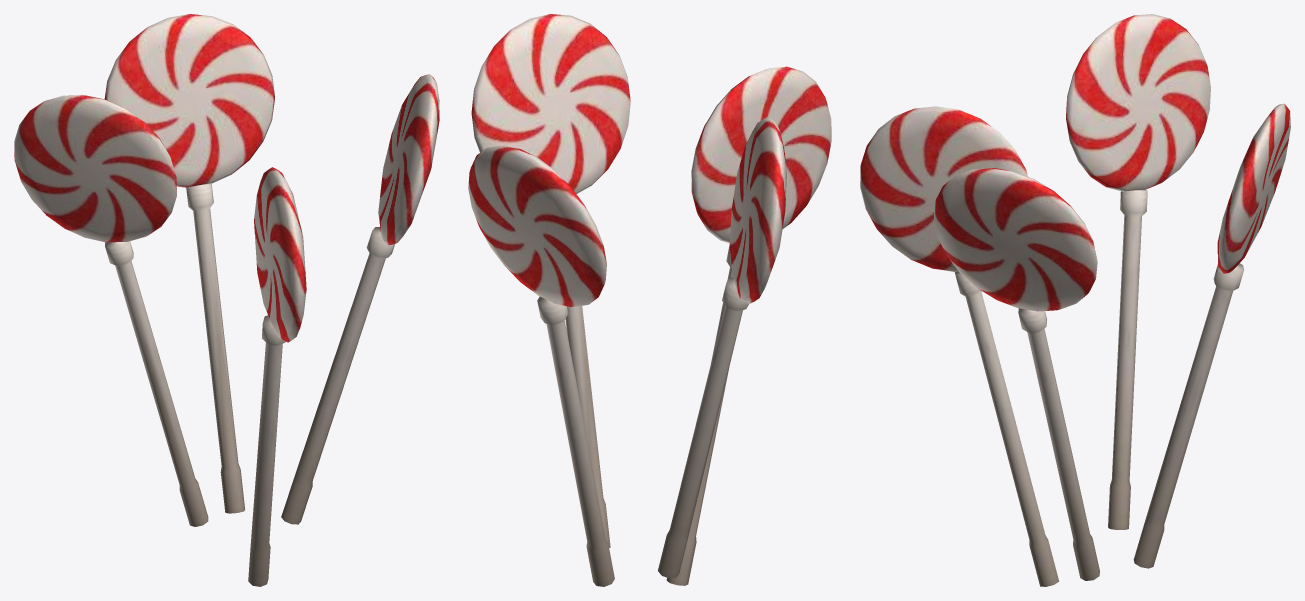
File: giantlollipops.deployed.glb
3 views of the same model, side by side, from view 1: azimuth 30°, elevation 25°; view 2: azimuth 150°, elevation 25°; view 3: azimuth 270°, elevation 25° (orthographic). The views are drawn at different scales.
Visible parts, largest first — view 1: lollipop_bundle_LOD0; view 2: lollipop_bundle_LOD0; view 3: lollipop_bundle_LOD0.
Part boxes in pixels (box(x1,y1,x2,y2)): lollipop_bundle_LOD0: box(14, 14, 439, 586); lollipop_bundle_LOD0: box(468, 14, 831, 586); lollipop_bundle_LOD0: box(860, 14, 1290, 586).
Bounding box in the file's own units: 0.7905 × 1.07 × 0.8342.
Materials: 1 (1 with a texture image).
